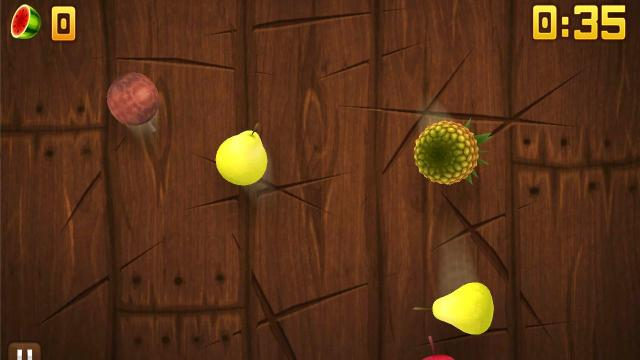fruit: (414, 117, 496, 185), (430, 282, 494, 334), (215, 127, 267, 186), (106, 72, 160, 127)
ignore: (9, 2, 43, 40)
